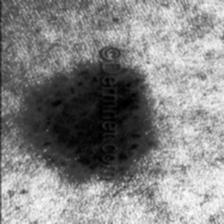Potentially Malignant Skin Tumors: (36, 72, 98, 170), (117, 78, 143, 168)
